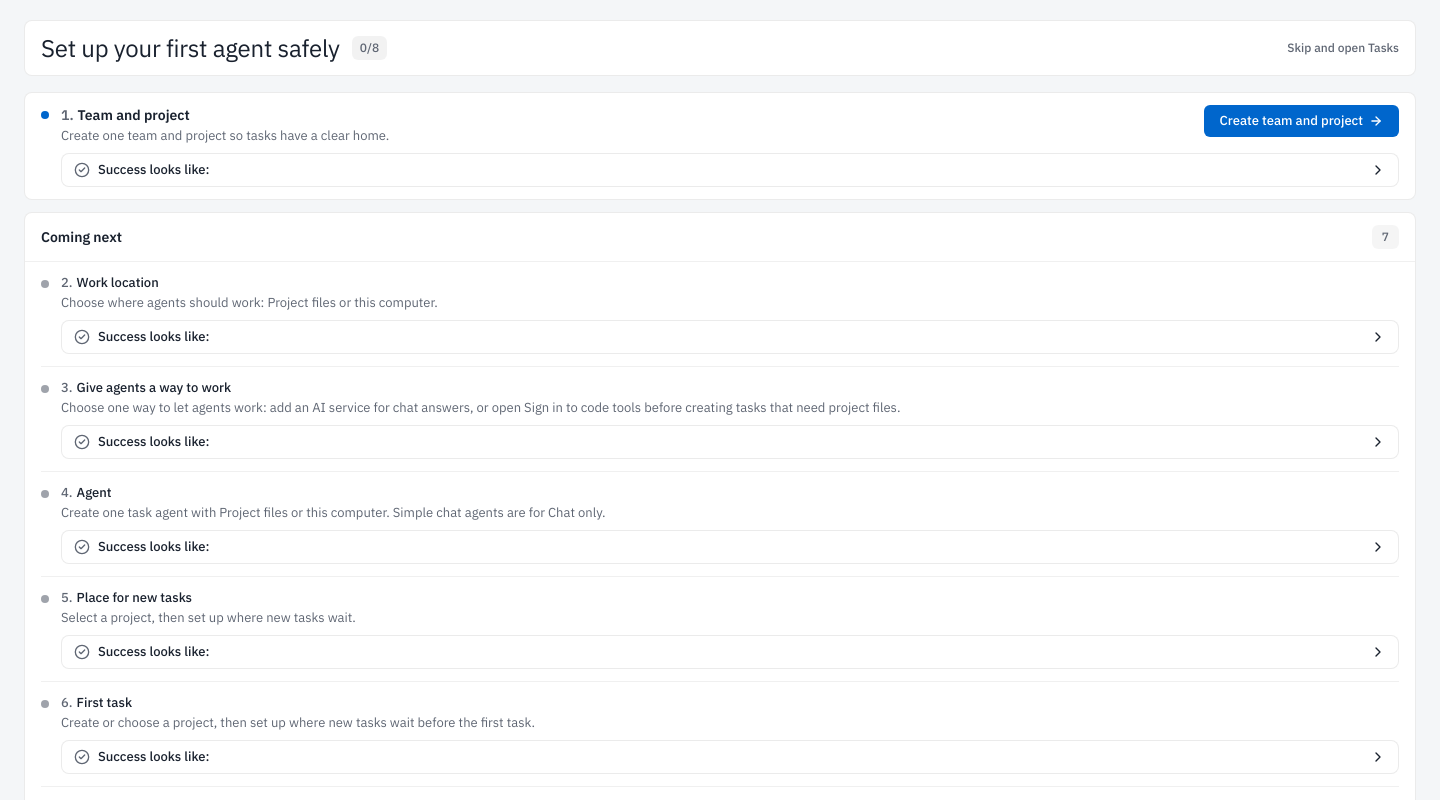
Scenario: GettingStartedView › reports skip failures before leaving the guide
Click the button with test id "getting-started-skip".
click(1343, 48)  # box [1287,40,1399,56]
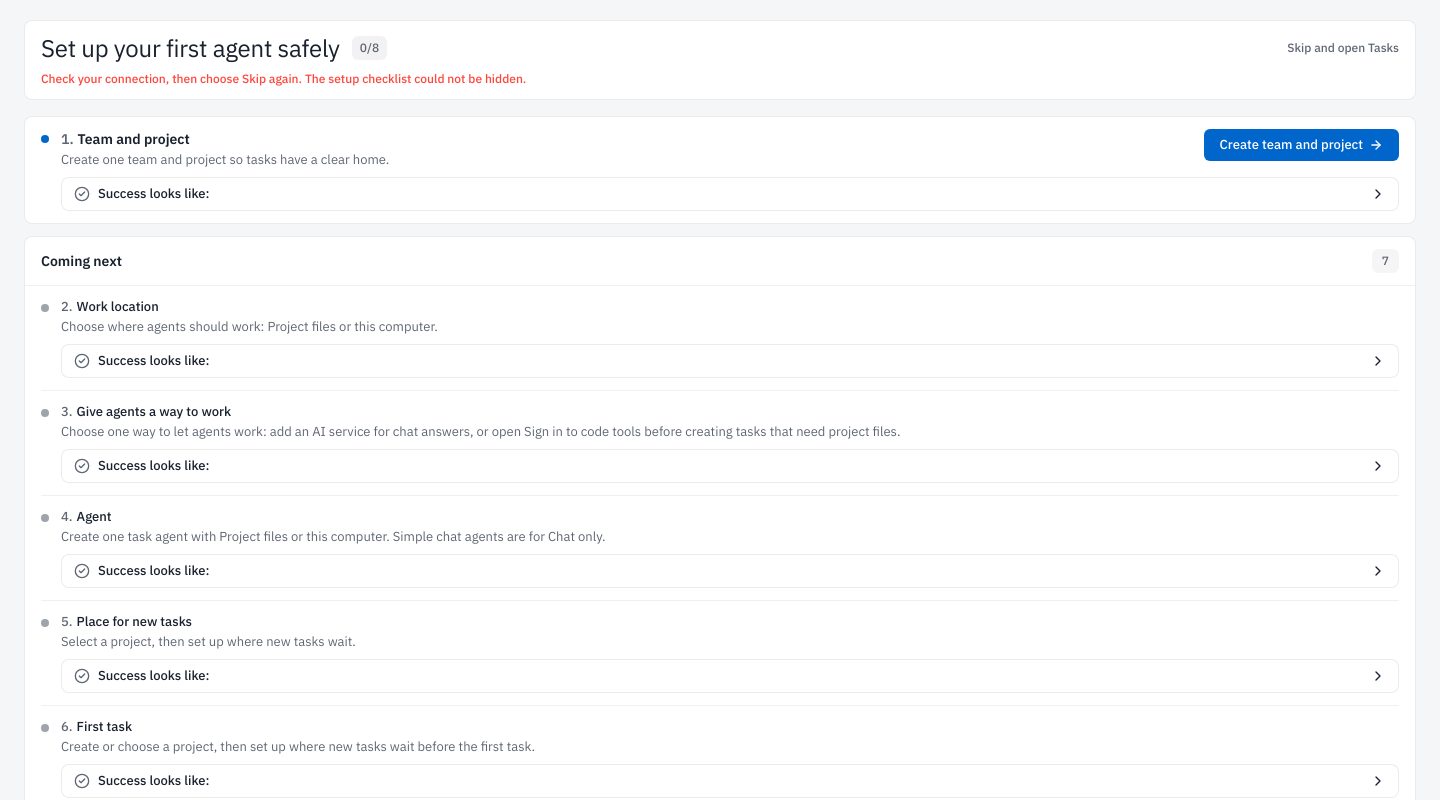
Expected: the message shows "Check your connection, then choose Skip again. The setup checklist could not be hidden.", [41,71,526,86]
